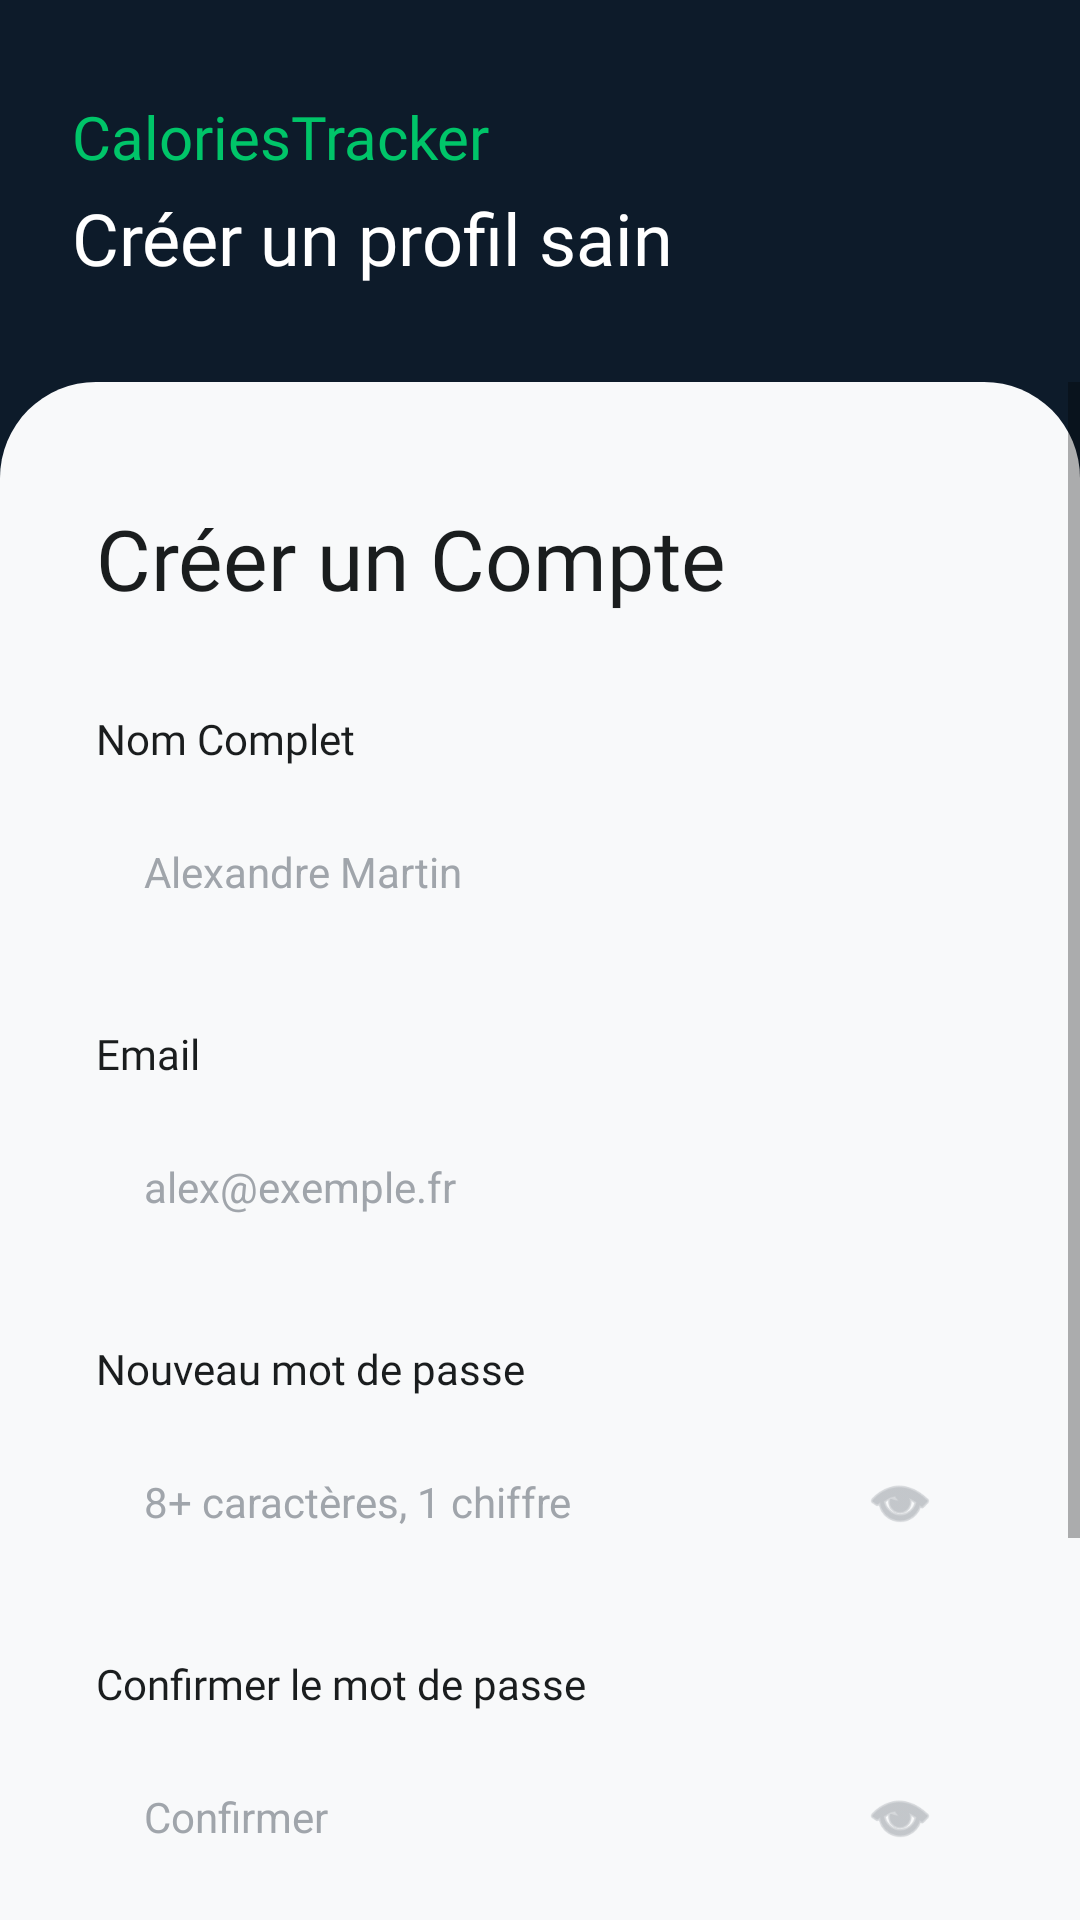

Locate icon controls on the screen. Image size 1080px×1920px, boxes as (x1, y1, x2, y2).
view: (871, 1486, 929, 1522), (871, 1801, 929, 1837)
